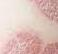plaque psoriasis: (2, 30, 44, 54), (35, 40, 58, 54)
